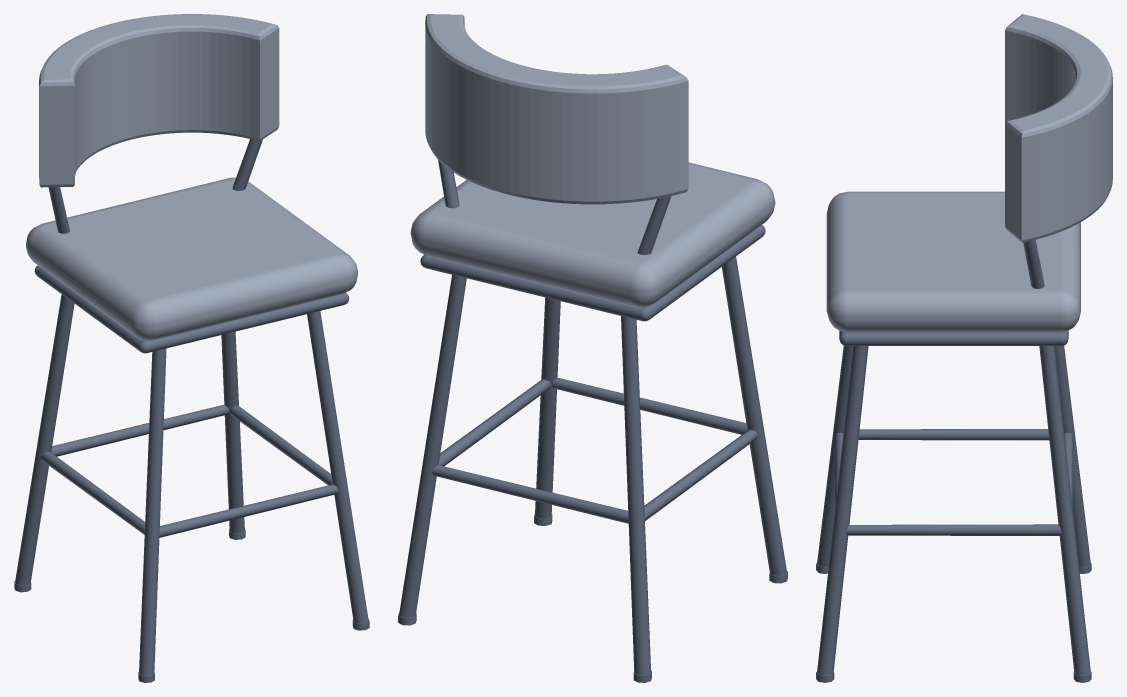
File: bar-stool-lite.glb
3 renders of one model, left to right at view 1: azimuth 30°, elevation 25°; view 2: azimuth 150°, elevation 25°; view 3: azimuth 270°, elevation 25°, orthographic. The views are drawn at different scales.
Visible parts, largest first — view 1: bar-stool-soft, bar-stool-frame, bar-stool-detail; view 2: bar-stool-soft, bar-stool-frame, bar-stool-detail; view 3: bar-stool-soft, bar-stool-frame, bar-stool-detail.
Boxes of the visible parts, left/top/right/bottom form: bar-stool-soft: left=26, top=14, right=357, bottom=340; bar-stool-frame: left=15, top=139, right=368, bottom=675; bar-stool-detail: left=14, top=528, right=369, bottom=682; bar-stool-soft: left=410, top=14, right=775, bottom=307; bar-stool-frame: left=399, top=160, right=786, bottom=675; bar-stool-detail: left=398, top=513, right=787, bottom=682; bar-stool-soft: left=826, top=14, right=1112, bottom=332; bar-stool-frame: left=817, top=240, right=1090, bottom=675; bar-stool-detail: left=816, top=563, right=1091, bottom=682.
Bounding box in the file's own units: 0.4582 × 0.97 × 0.4724.
